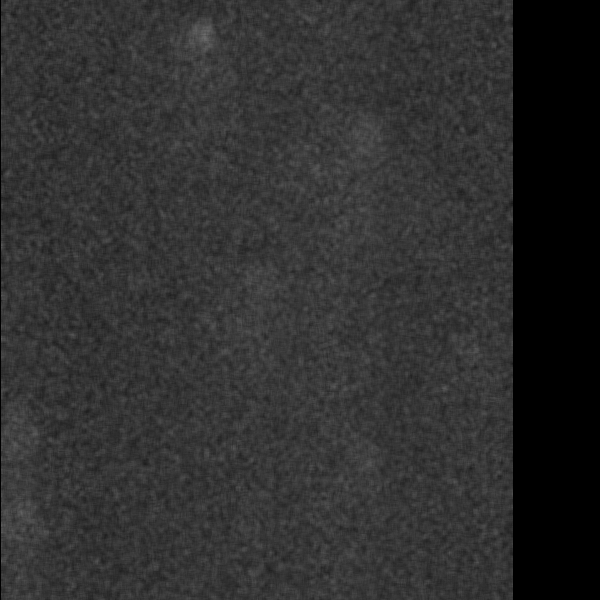spark: (189, 16, 214, 95)
